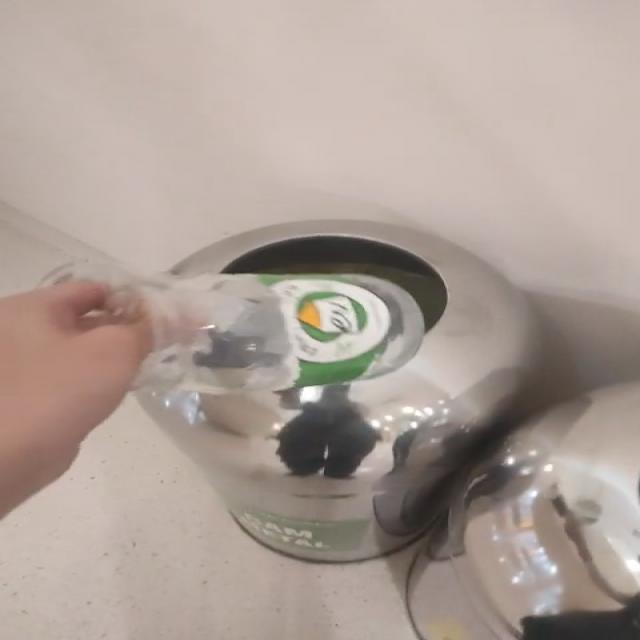glass: (45, 263, 425, 394)
